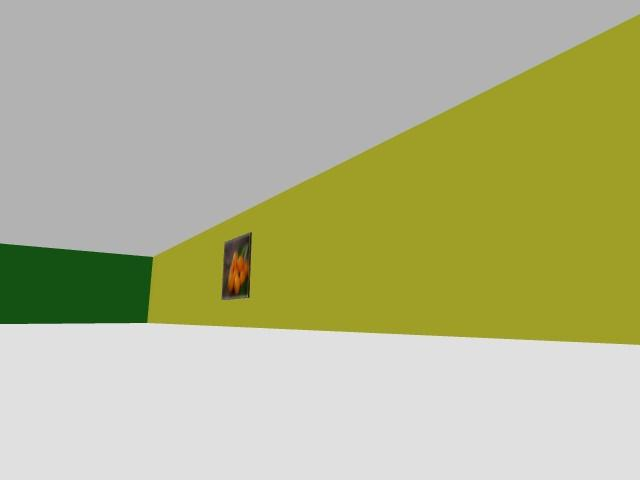orange: (227, 275, 234, 293), (234, 274, 240, 294), (236, 256, 243, 271), (231, 252, 237, 269), (243, 259, 248, 275), (240, 269, 245, 284), (229, 266, 236, 276), (246, 263, 249, 275)
